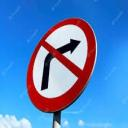NoVirarDireita: (27, 18, 97, 115)
